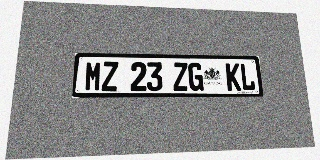2: (131, 62, 146, 91)
3: (147, 62, 162, 91)
G: (188, 63, 204, 91)
K: (225, 63, 241, 91)
L: (240, 63, 256, 91)
M: (84, 61, 102, 91)
Z: (101, 61, 118, 91), (173, 62, 188, 91)
